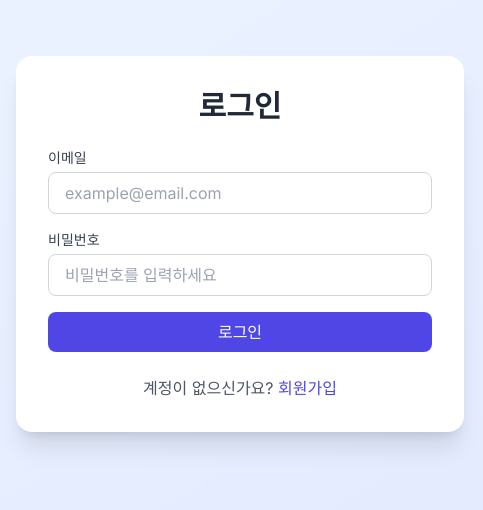
Scenario: LoginPage › Error handling › should clear error message on new submission
Type "test@example.com" into the field labelled "이메일" at (240, 193), box top-left (48, 172), bottom-right (432, 214)
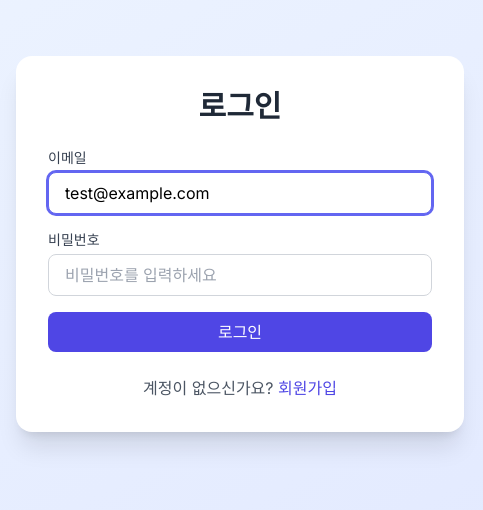
Type "password123" into the password field labelled "비밀번호" at (240, 275), box top-left (48, 254), bottom-right (432, 296)
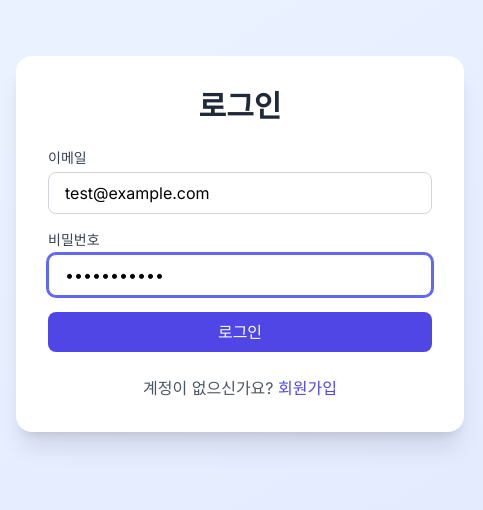
// First submission - should fail
Click the button "로그인" at (240, 332), box top-left (48, 312), bottom-right (432, 352)
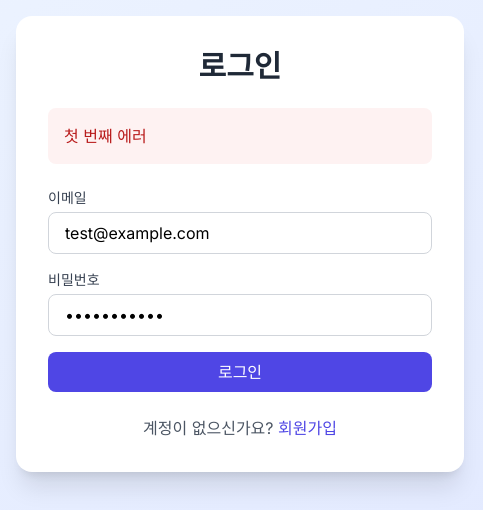
Expected: the text "첫 번째 에러" is shown, top-left (48, 108), bottom-right (432, 164)
// Second submission - error should be cleared
Click the button "로그인" at (240, 372), box top-left (48, 352), bottom-right (432, 392)
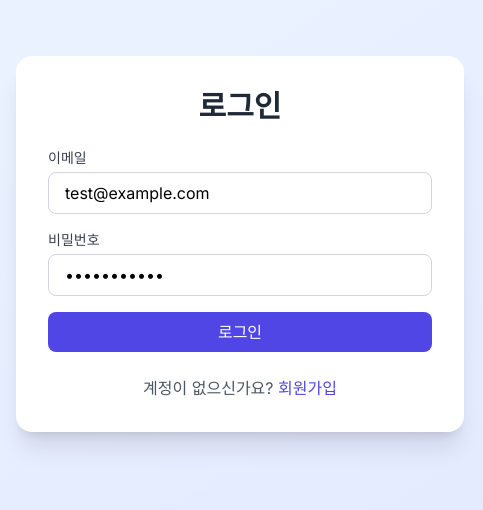
Expected: the text "첫 번째 에러" is gone
